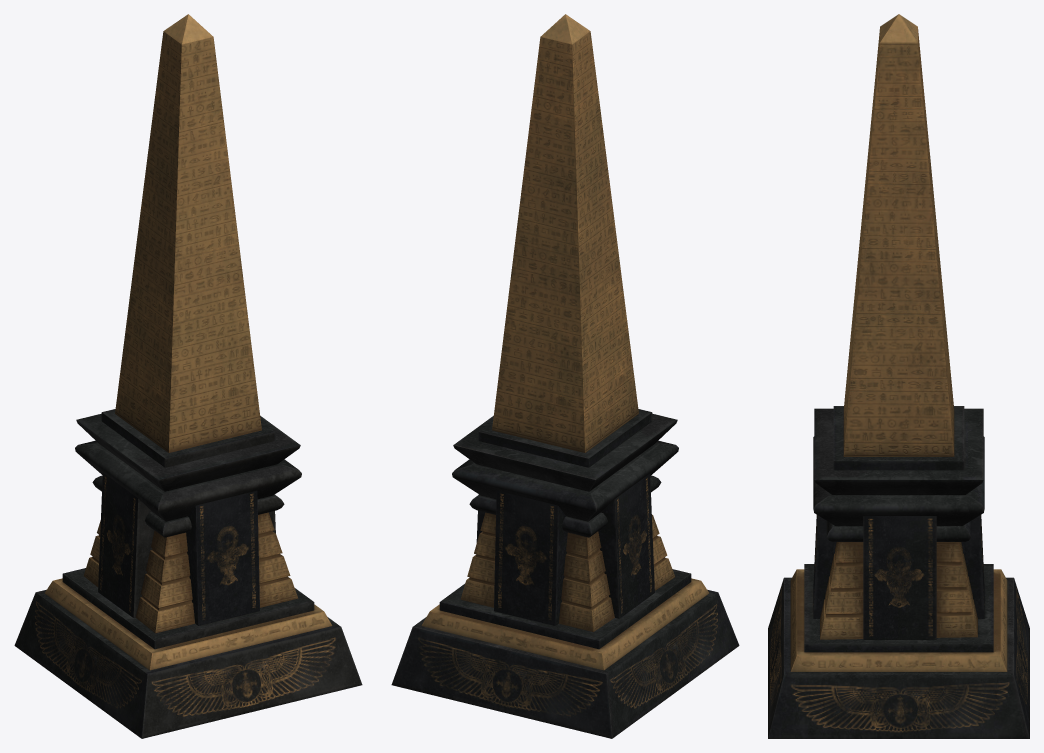
File: Egiptian.obj
3 views of the same model, side by side, from view 1: azimuth 30°, elevation 25°; view 2: azimuth 150°, elevation 25°; view 3: azimuth 270°, elevation 25° (orthographic). The views are drawn at different scales.
Parts seen in each view (by area): view 1: Egyptian Ovelisk; view 2: Egyptian Ovelisk; view 3: Egyptian Ovelisk.
Boxes of the visible parts, box(x1,y1,x2,y2) form: Egyptian Ovelisk: box(14, 14, 362, 738); Egyptian Ovelisk: box(391, 14, 739, 738); Egyptian Ovelisk: box(768, 14, 1029, 738).
Bounding box in the file's own units: 3.24 × 9.14 × 3.24.
